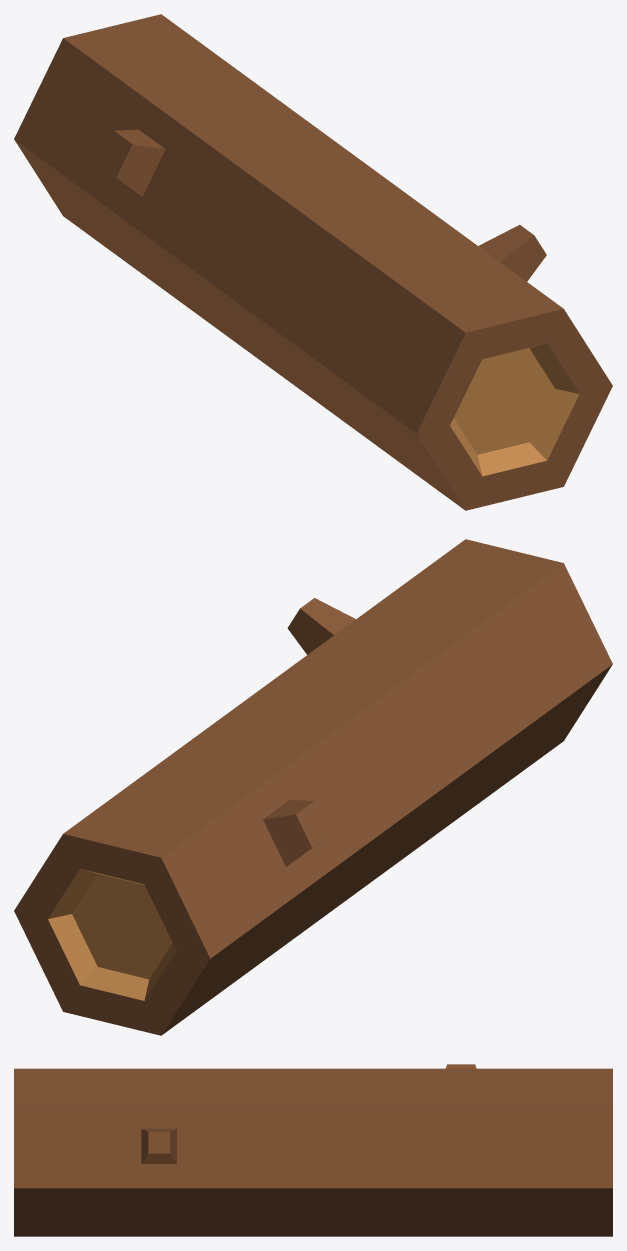
Rendered from kenney_log.glb.
3 renders of one model, top to bottom at view 1: azimuth 30°, elevation 25°; view 2: azimuth 150°, elevation 25°; view 3: azimuth 270°, elevation 25°, orthographic. The views are drawn at different scales.
Visible parts, largest first — view 1: bark, wood; view 2: bark, wood; view 3: bark.
Part boxes in pixels (bbox=[...]): bark: bbox=[14, 14, 612, 510]; wood: bbox=[450, 343, 579, 476]; bark: bbox=[14, 539, 612, 1035]; wood: bbox=[48, 868, 176, 1000]; bark: bbox=[14, 1064, 612, 1236].
Bounding box in the file's own units: 0.234 × 0.1732 × 0.71.
